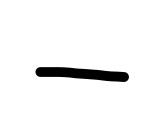minus: (35, 67, 129, 82)
